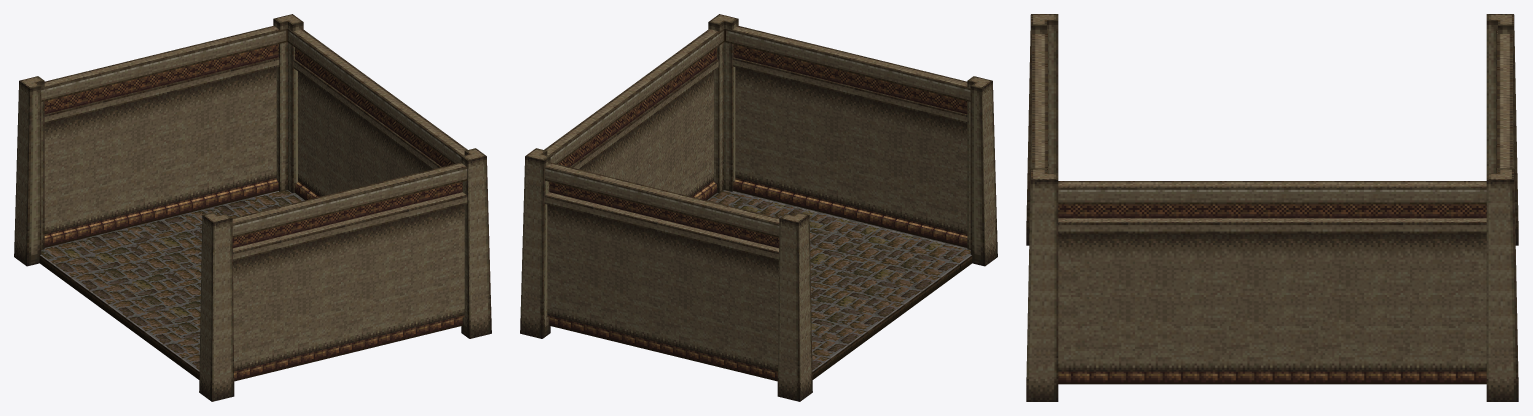
File: EnvBdgMD_Wilderness_C_Indoor_House_AB.FBX
The picture shows the model from 3 angles, left to right: view 1: azimuth 30°, elevation 25°; view 2: azimuth 150°, elevation 25°; view 3: azimuth 270°, elevation 25°; orthographic projection. The views are drawn at different scales.
Parts seen in each view (by area): view 1: EnvBdgMD_Wilderness_C_Indoor_House_AB; view 2: EnvBdgMD_Wilderness_C_Indoor_House_AB; view 3: EnvBdgMD_Wilderness_C_Indoor_House_AB.
Boxes of the visible parts, box(x1,y1,x2,y2) form: EnvBdgMD_Wilderness_C_Indoor_House_AB: box(14, 14, 491, 401); EnvBdgMD_Wilderness_C_Indoor_House_AB: box(520, 14, 997, 401); EnvBdgMD_Wilderness_C_Indoor_House_AB: box(1026, 14, 1518, 401).
Bounding box in the file's own units: 878 × 530 × 1075.
Materials: 1 (1 with a texture image).
